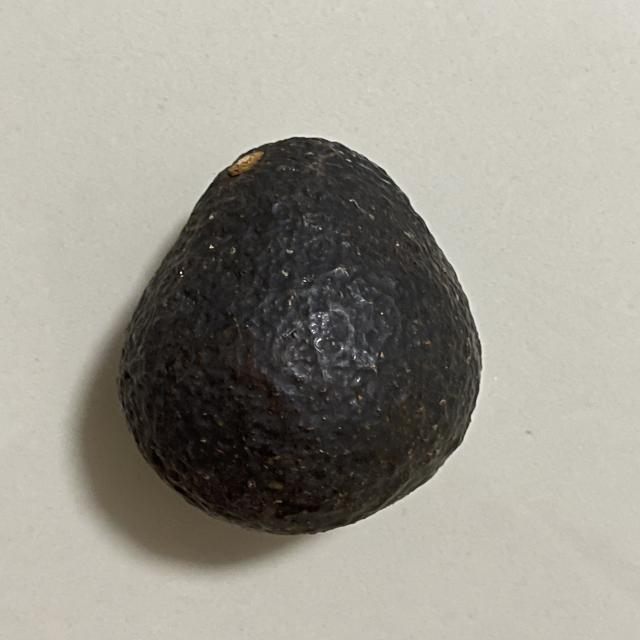Level2: (108, 127, 493, 543)
